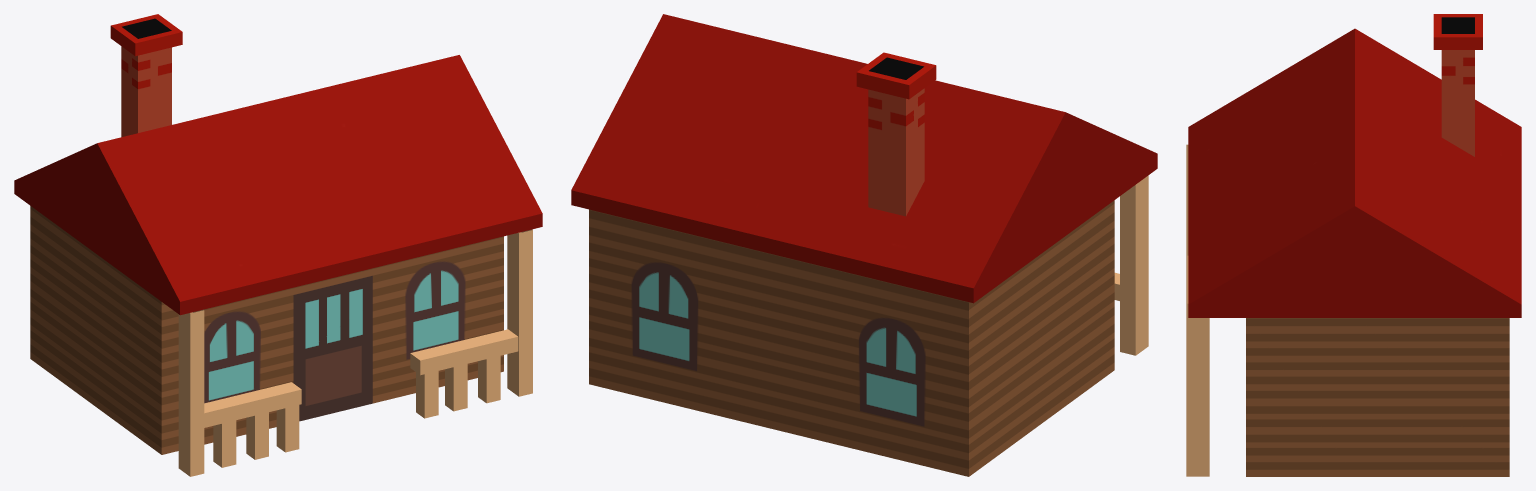
File: Building #20.fbx
3 renders of one model, left to right at view 1: azimuth 30°, elevation 25°; view 2: azimuth 150°, elevation 25°; view 3: azimuth 270°, elevation 25°, orthographic. The views are drawn at different scales.
Visible parts, largest first — view 1: BuildingF; view 2: BuildingF; view 3: BuildingF.
Boxes of the visible parts, x1,y1,x2,y2 form: BuildingF: [14, 14, 542, 476]; BuildingF: [571, 14, 1157, 476]; BuildingF: [1186, 14, 1521, 476].
Bounding box in the file's own units: 2990 × 2576 × 2384.
Materials: 1 (1 with a texture image).
